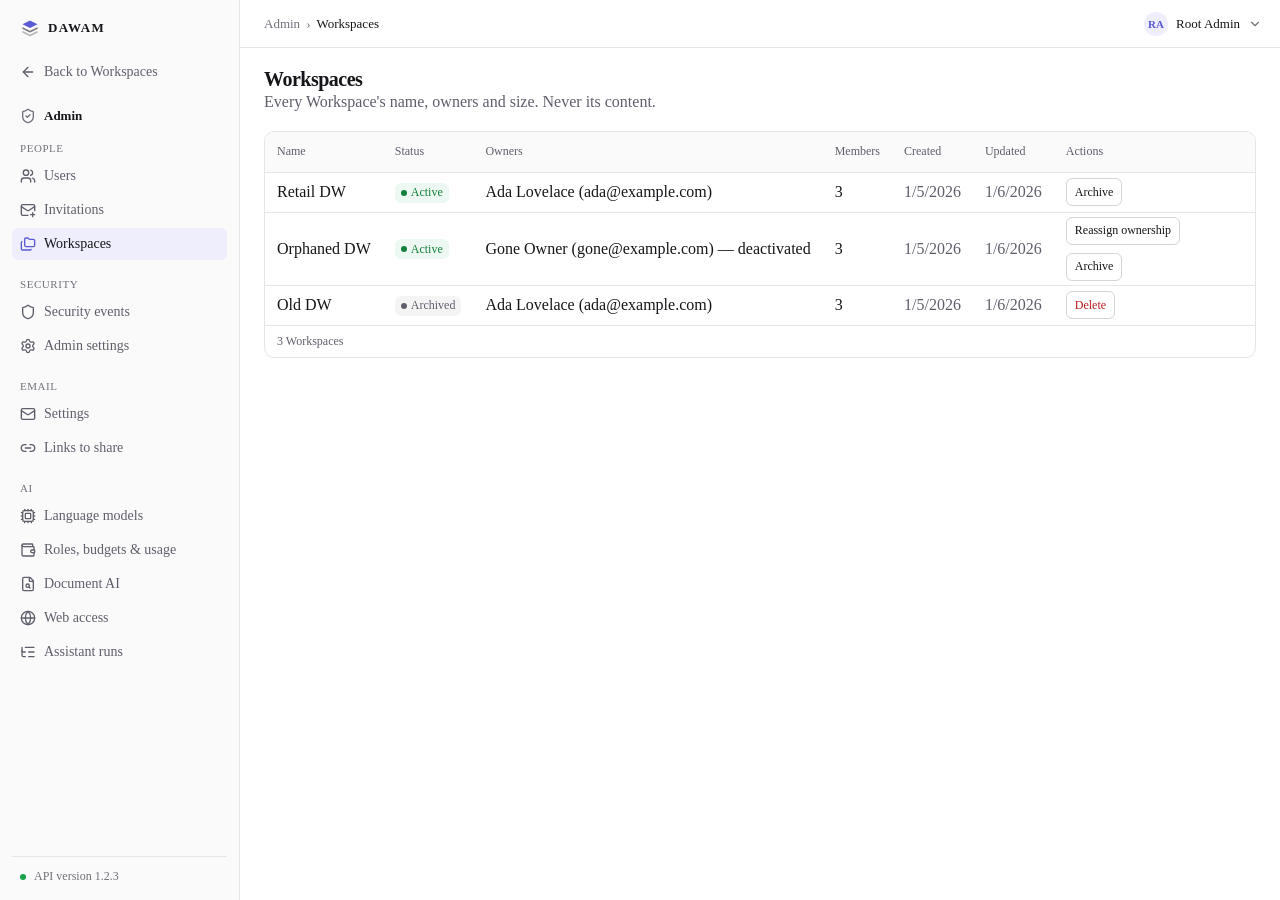
Test: the admin Workspace list › shows why a reassignment is refused
This screenshot has width=1280, height=900.
Click the button "Reassign ownership": (1123, 230) [1066,216,1180,244]
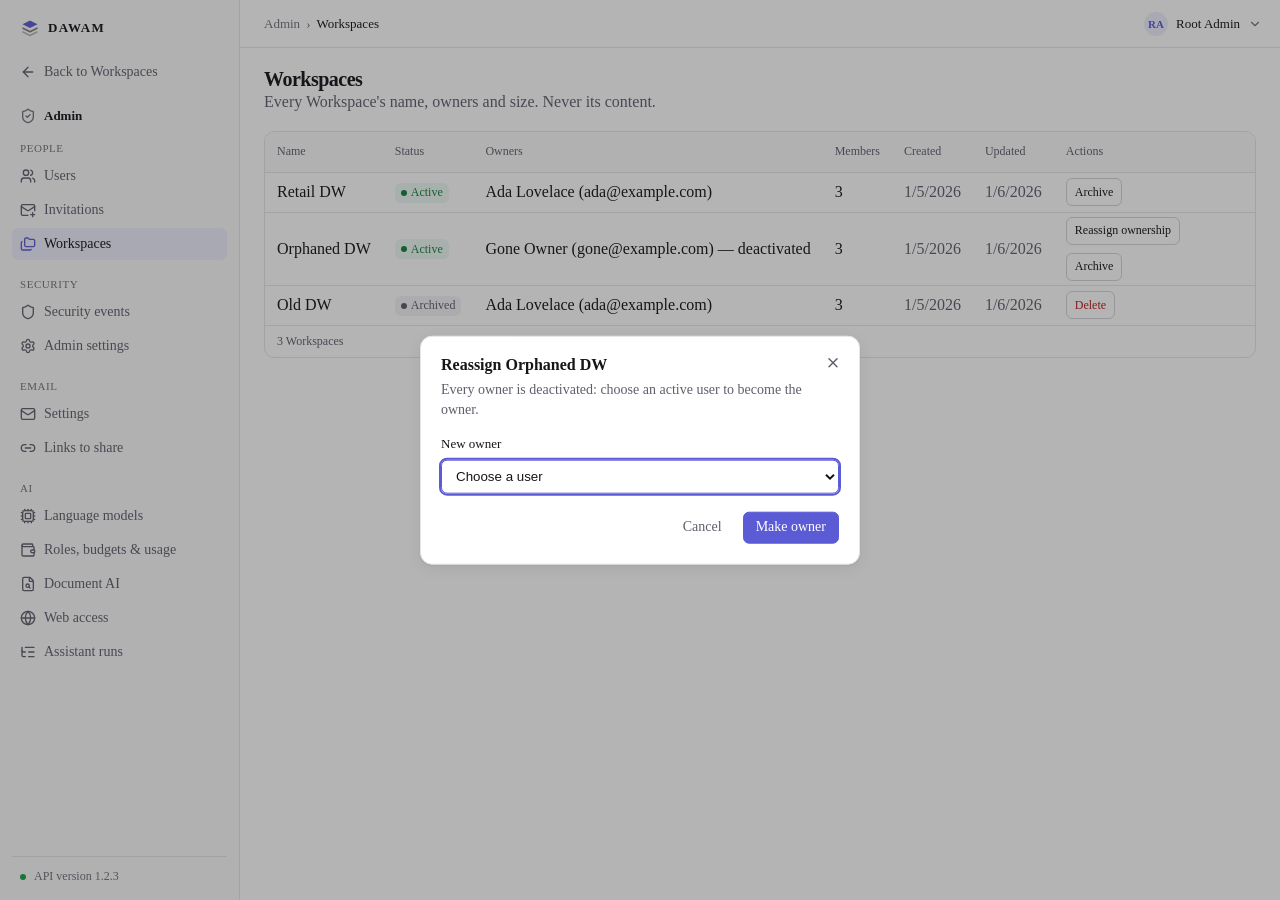
Select "Grace Hopper (grace@example.com)" in the dropdown labelled "New owner": (640, 476) [441,459,839,493]
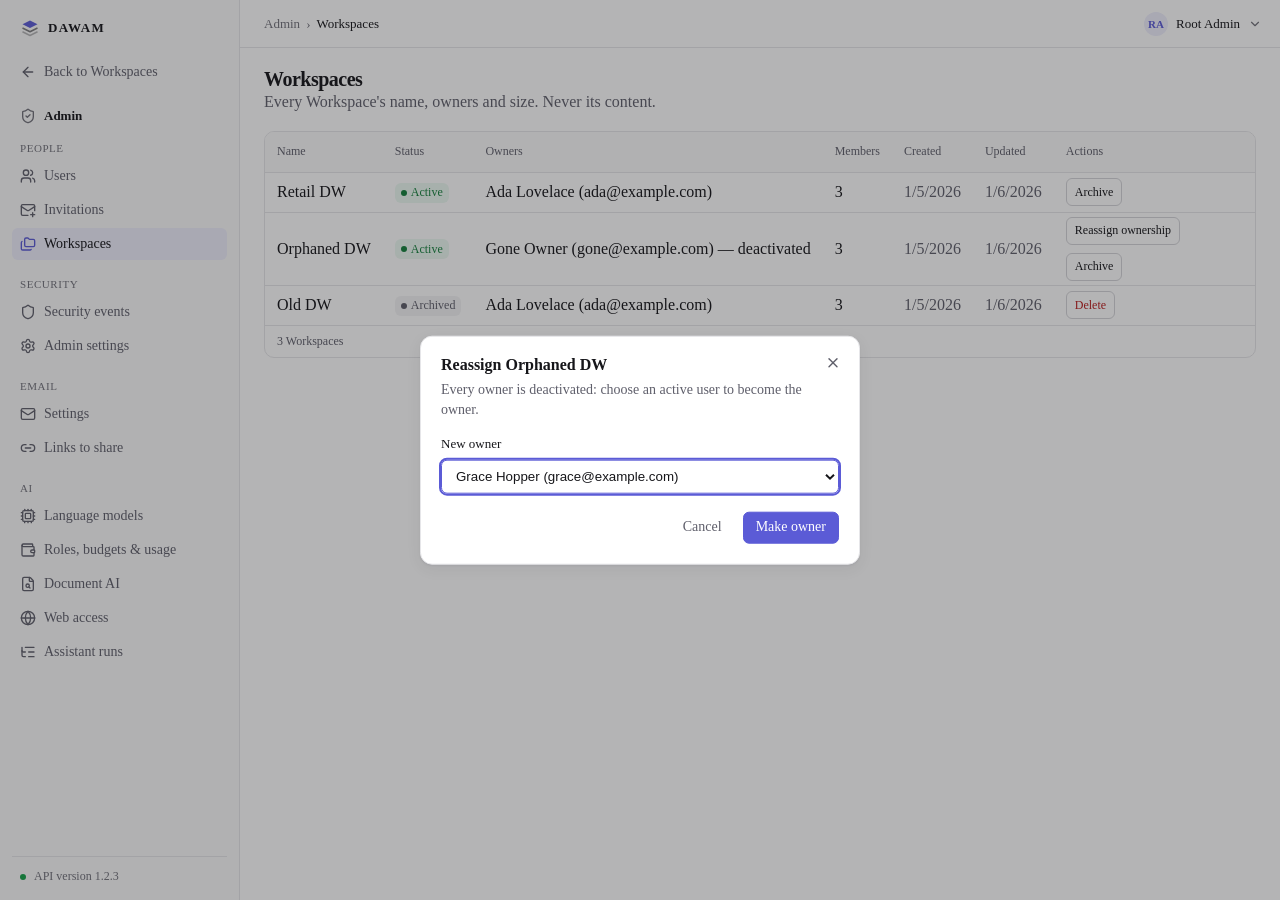
Click the button "Make owner": (791, 527) [743,511,839,543]
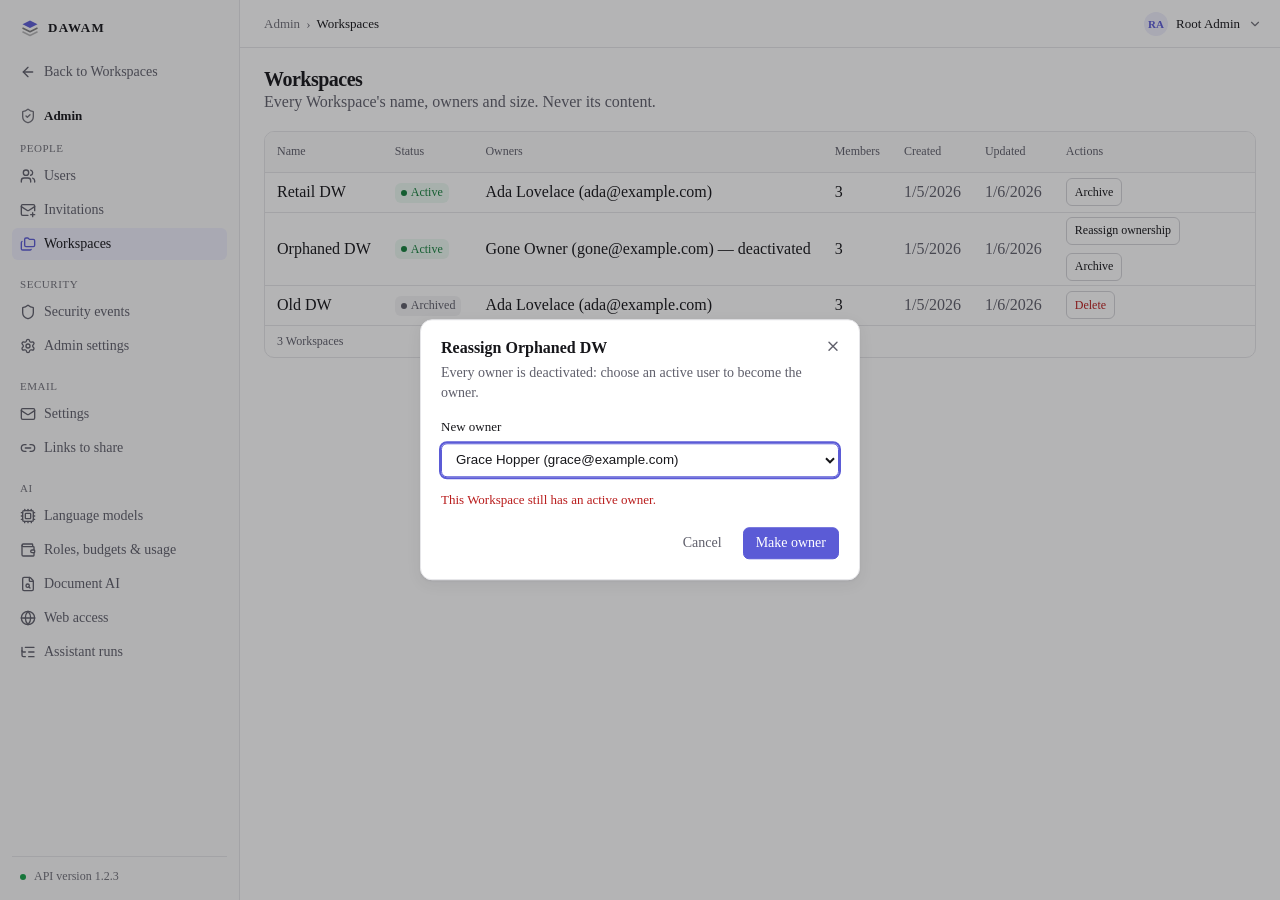
Expected: the message shows "still has an active owner", [441,492,656,507]
